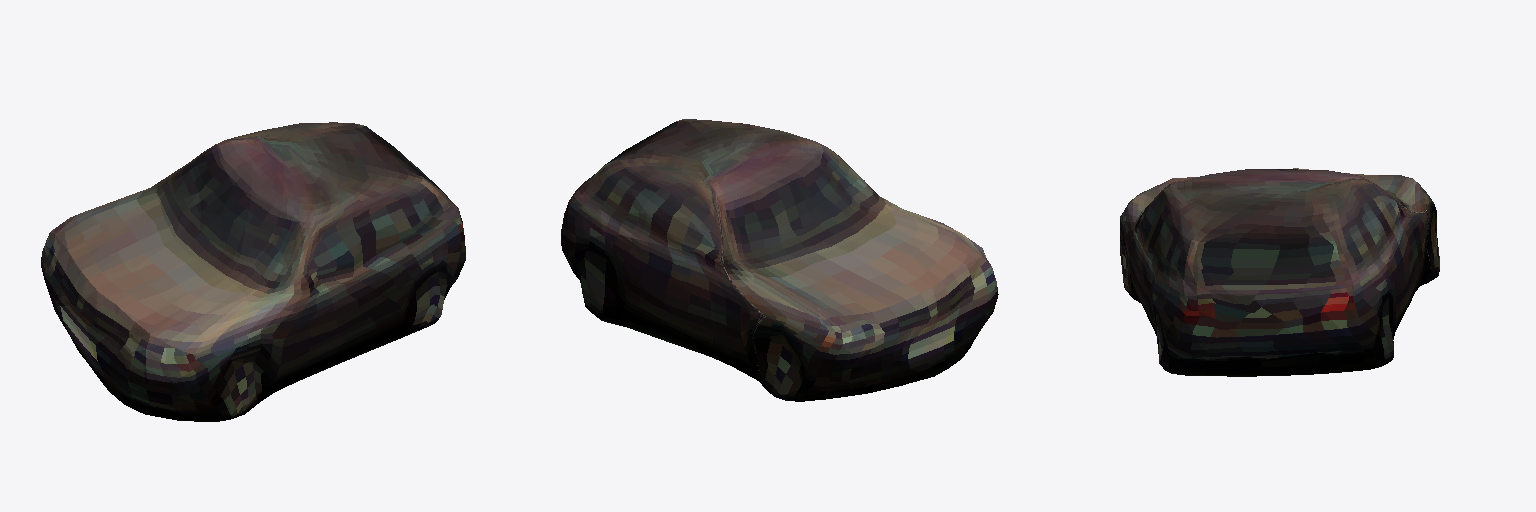
3 views of the same model, side by side, from view 1: azimuth 30°, elevation 25°; view 2: azimuth 150°, elevation 25°; view 3: azimuth 270°, elevation 25° (orthographic).
Size of the model in its own units: 1 by 0.5033 by 0.798.
1 materials, 1 textured.